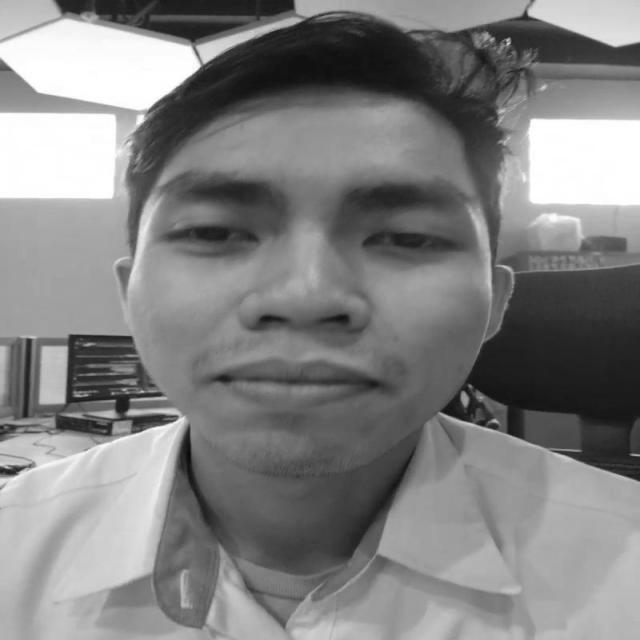real: (122, 119, 492, 477)
